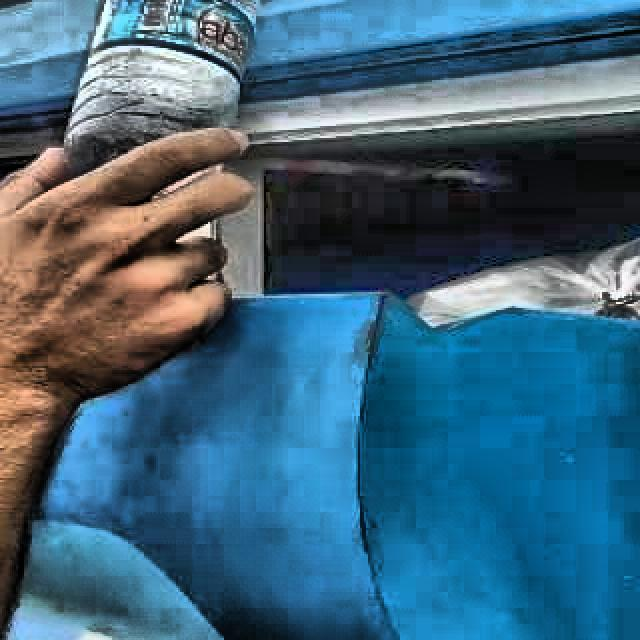plastic: (64, 0, 260, 168)
